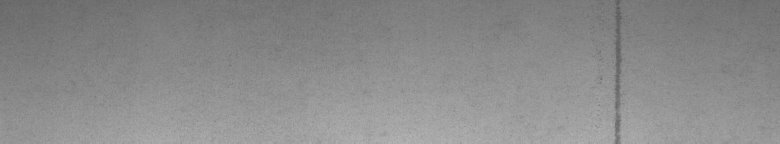hd: (610, 4, 624, 136)
